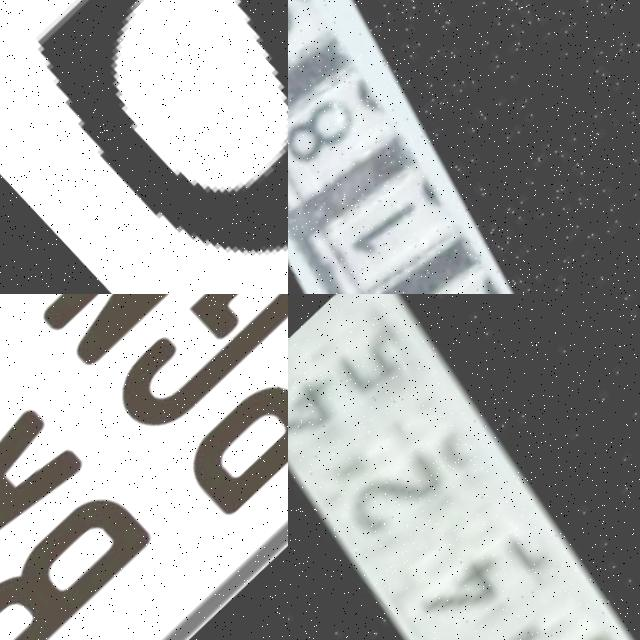1: (321, 172, 445, 294)
2: (324, 427, 461, 568)
4: (397, 523, 541, 640), (288, 358, 368, 476)
8: (288, 73, 381, 205)
A: (0, 394, 94, 639)
B: (0, 477, 160, 640)
G: (101, 294, 288, 454)
N: (31, 294, 269, 381)
P: (174, 295, 288, 527)
S: (0, 0, 288, 294)
